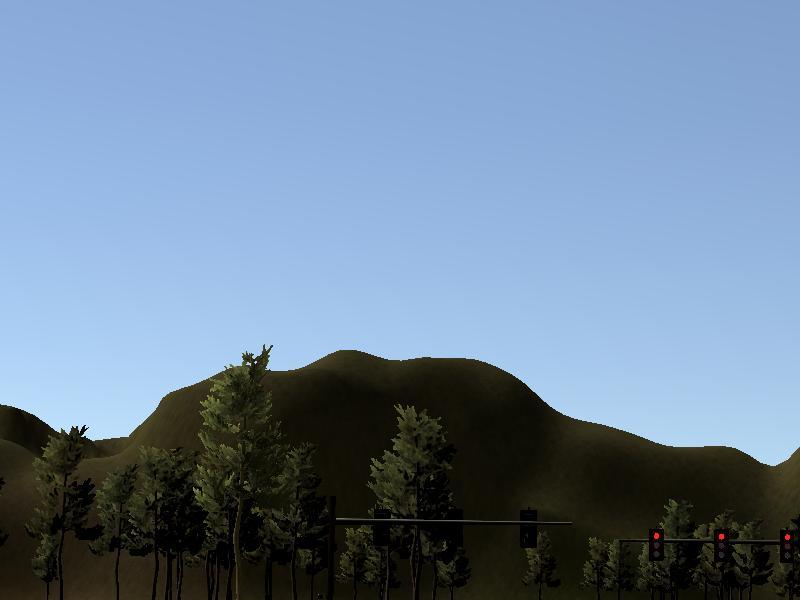Red: (647, 529, 664, 562), (777, 531, 794, 564), (713, 528, 730, 561)
